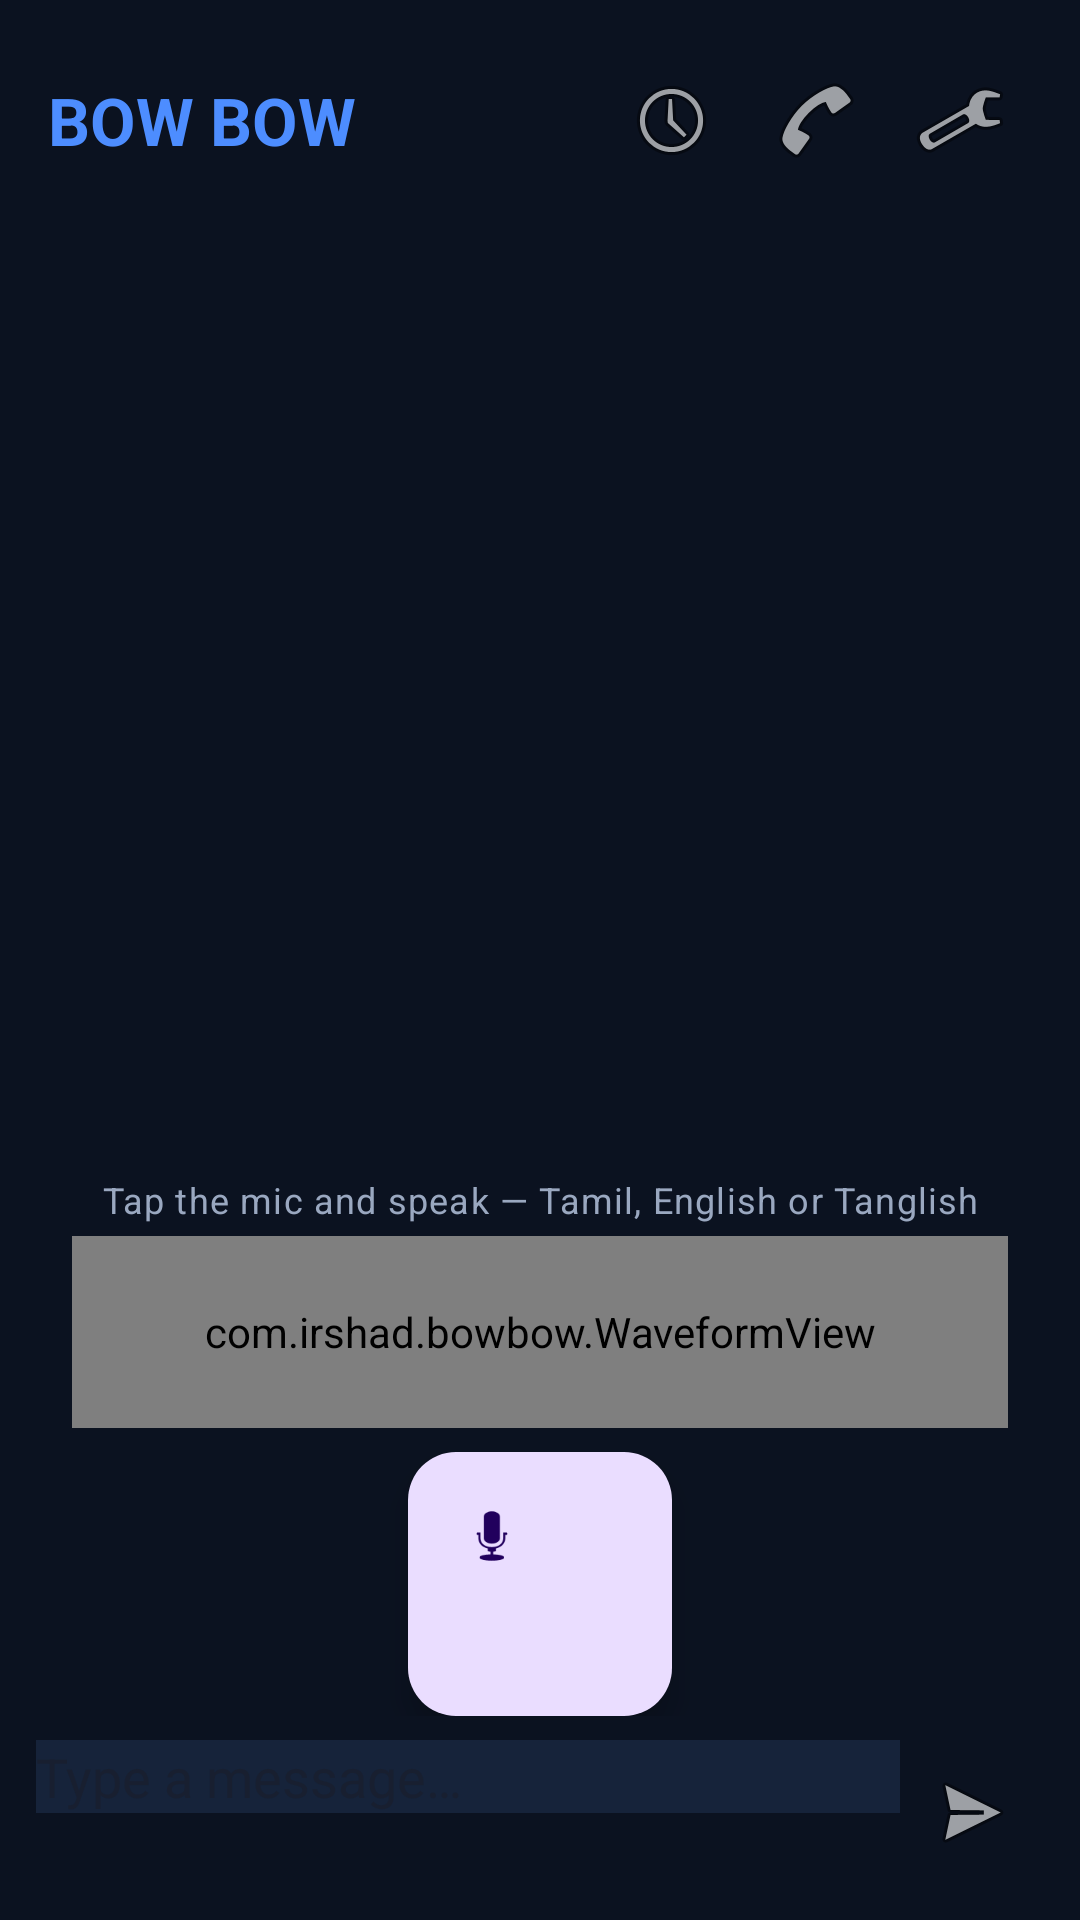

Screen size 1080px x 1920px. Icon name, then its box in pixels as (x1, y1, x2, y2):
Call: (782, 86, 851, 155)
History: (640, 89, 703, 152)
Microphone: (408, 1452, 672, 1716)
Send: (945, 1785, 1001, 1840)
Settings: (920, 90, 1000, 150)
